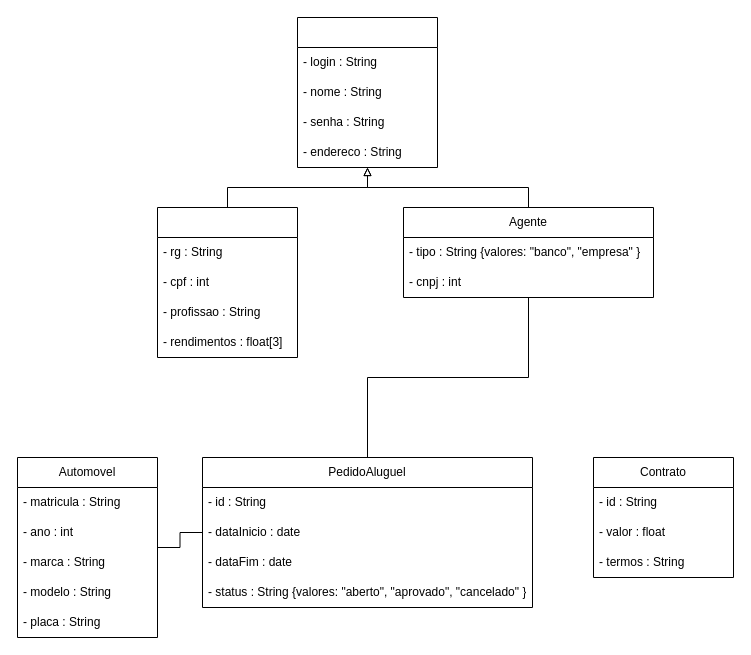
Some shapes in this 751 by 655 pixel diagram are drawn without their labels. Here are the shapes that lost their labels. From the top down, the box of each, then its label:
(296, 16, 438, 168): <<abstract>> Usuário
(156, 206, 298, 358): Cliente
